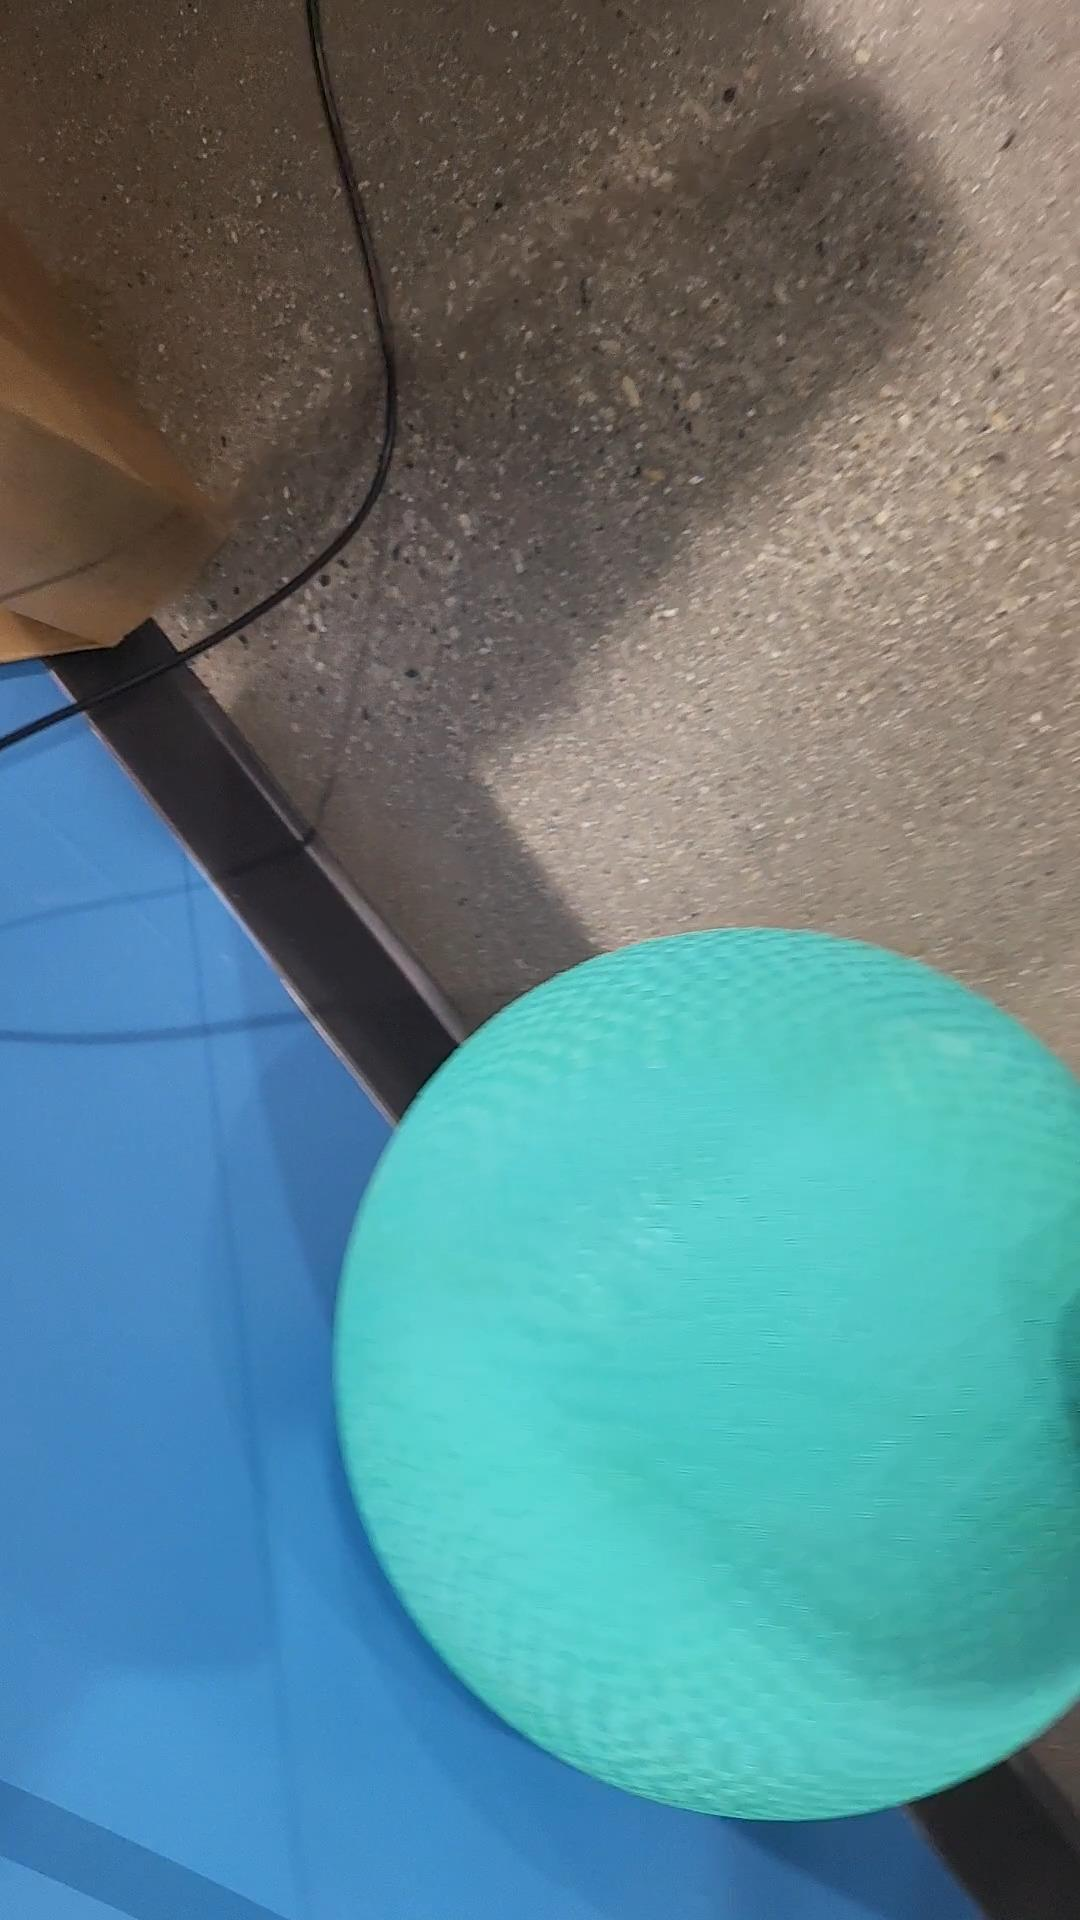algae: (338, 927, 1080, 1825)
